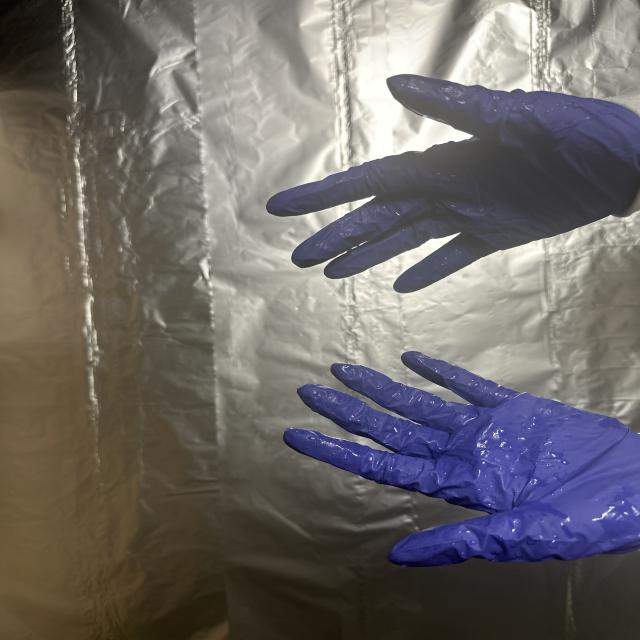gloves_contaminated: (266, 75, 640, 292), (284, 352, 640, 566)
